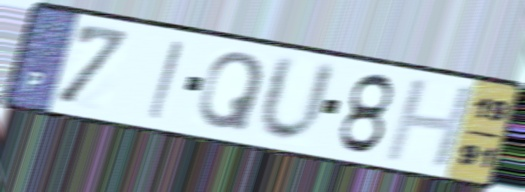7: (58, 20, 133, 109)
8: (337, 71, 397, 156)
H: (380, 77, 480, 171)
I: (144, 36, 187, 123)
Q: (195, 49, 269, 135)
U: (254, 50, 340, 147)
